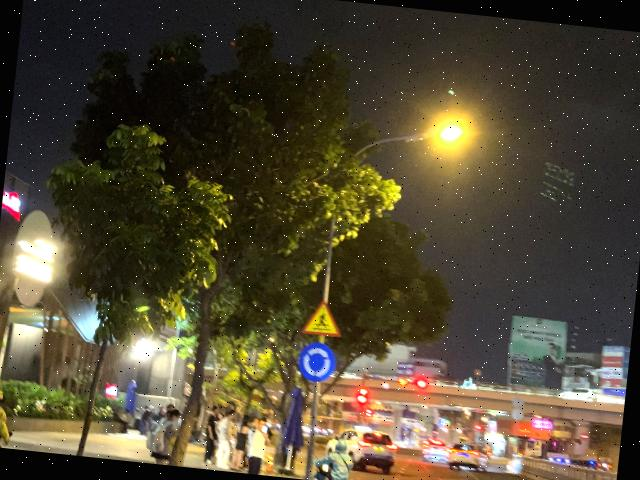duong-nguoi-di-bo-cat-ngang: (300, 299, 344, 338)
noi-giao-nhau-chay-theo-vong-xuyen: (298, 340, 338, 385)
